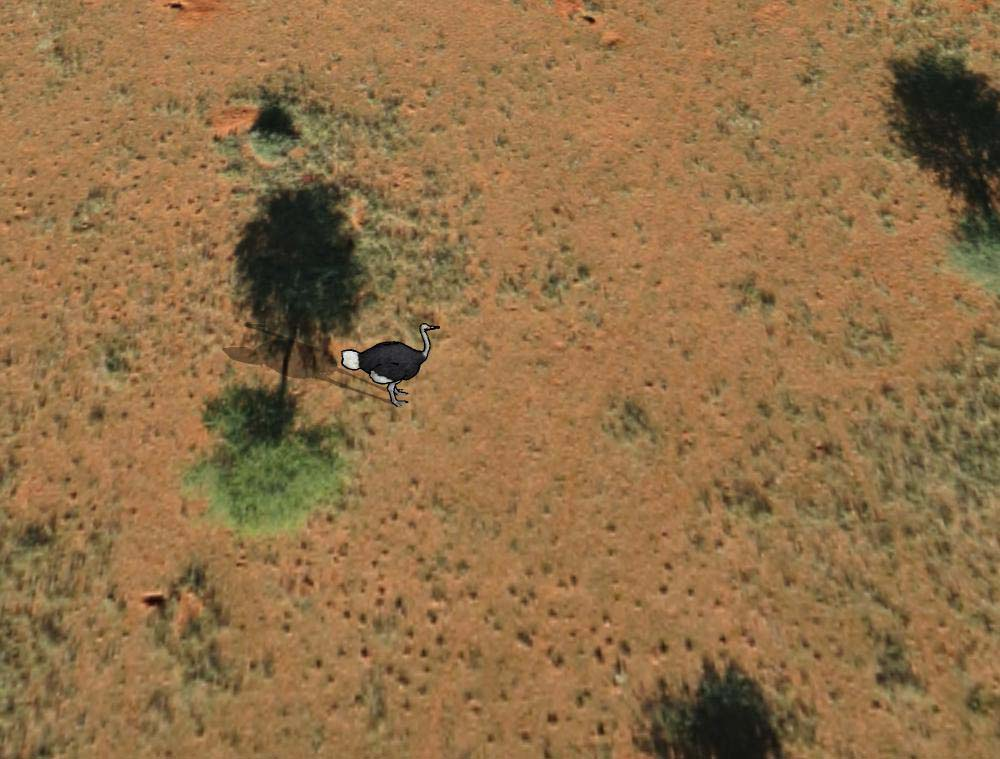springbok: (330, 317, 444, 407)
